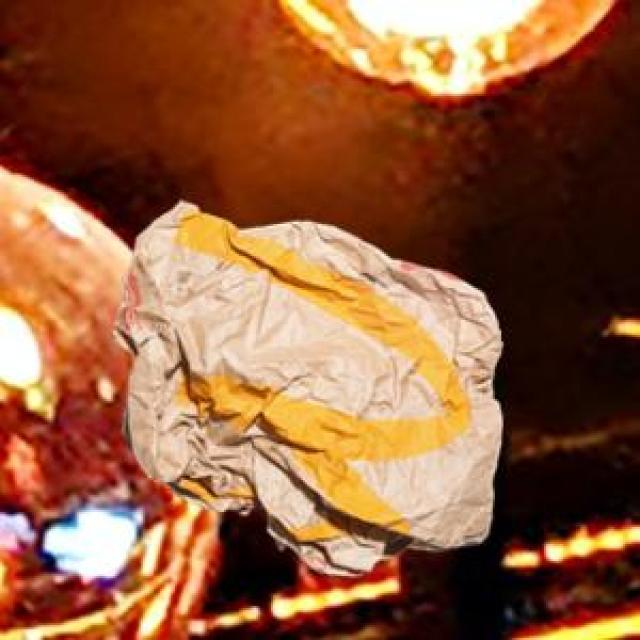paper: (109, 198, 499, 572)
